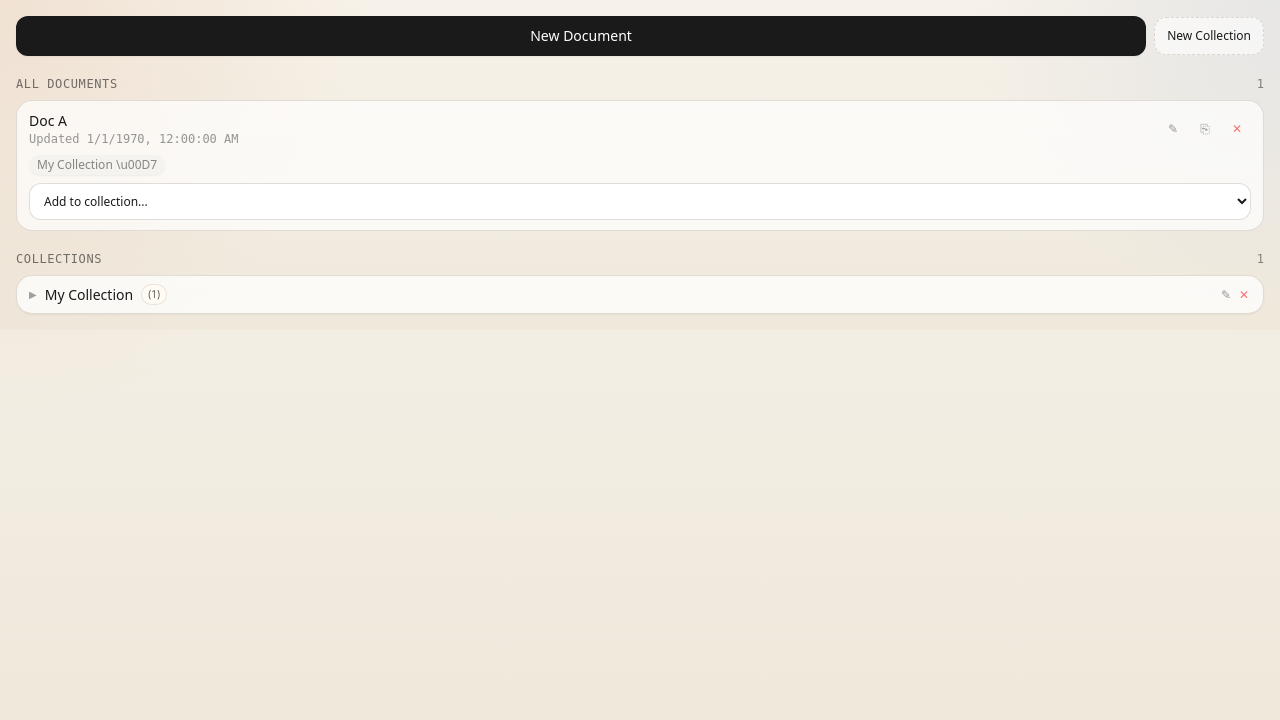
it: DocumentHubSidebar delete-collection confirmation gate (#115) › leaves the collection untouched when cancelled
The width and height of the screenshot is (1280, 720).
Click the button named "Delete collection".
click(1244, 294)  # box x1=1237 y1=284 x2=1251 y2=304
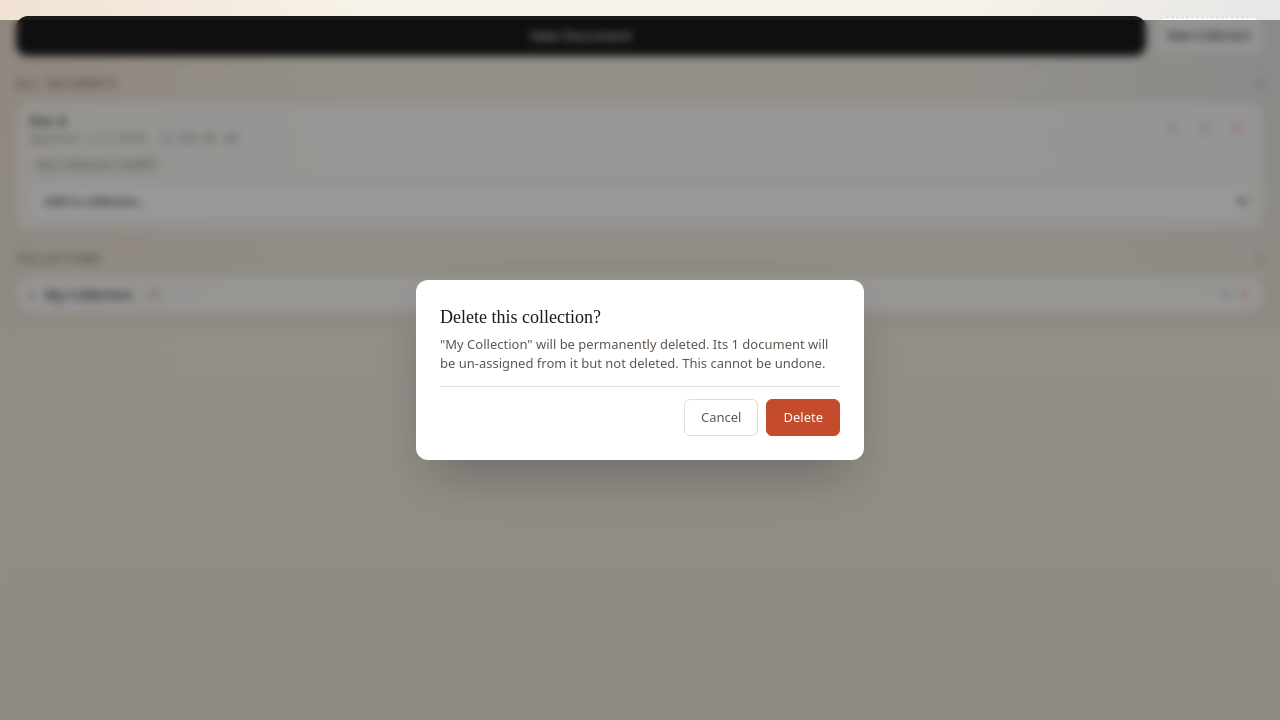
Click the button "Cancel".
click(721, 418)  # box x1=684 y1=399 x2=758 y2=436
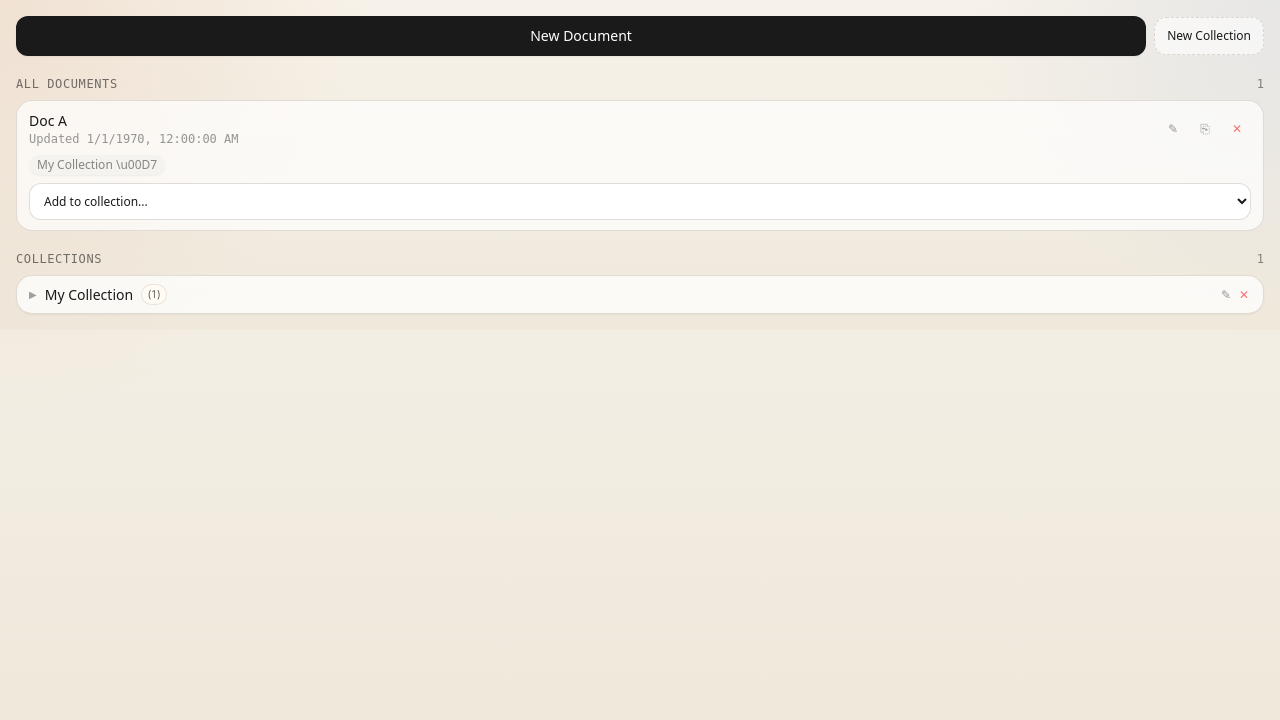
Check: the heading "Delete this collection?" is gone
